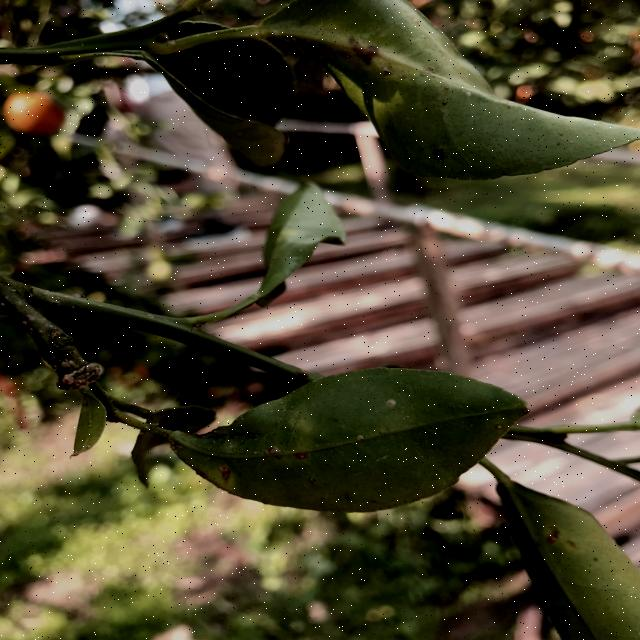canker: (310, 8, 592, 161), (188, 386, 406, 500)
